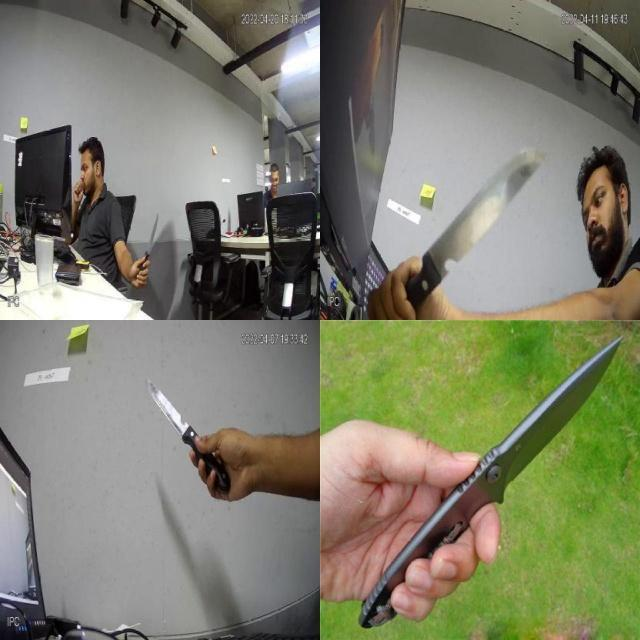-: (352, 331, 628, 632), (424, 152, 551, 254), (140, 370, 231, 496), (143, 206, 163, 268)
